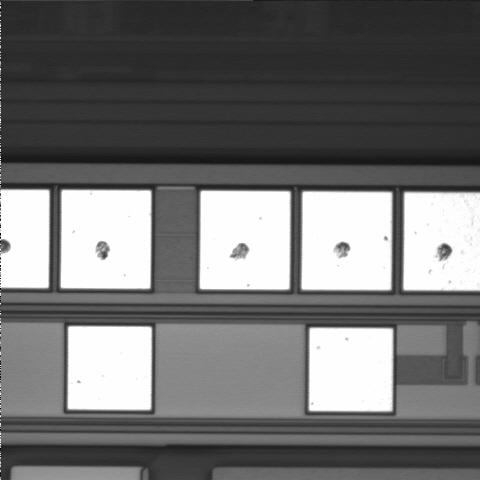pad: (61, 190, 151, 289), (200, 191, 290, 290), (302, 192, 392, 290), (68, 326, 152, 410), (309, 328, 393, 411)
